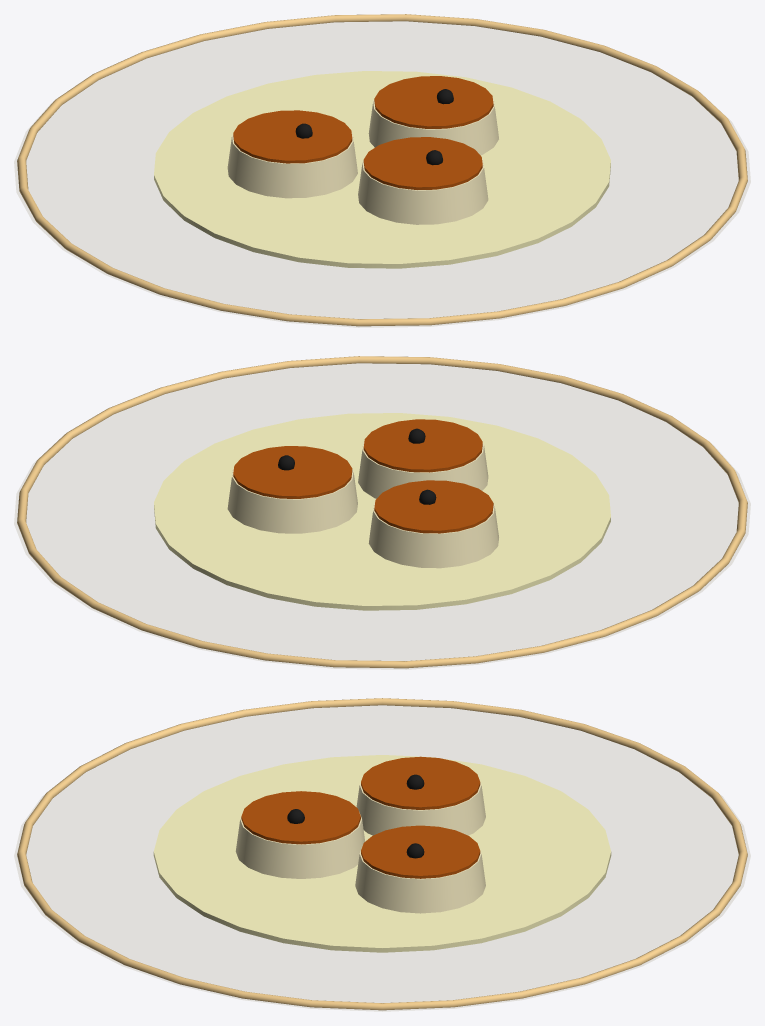
Rendered from pan-seared-scallops.glb.
3 renders of one model, top to bottom at view 1: azimuth 30°, elevation 25°; view 2: azimuth 150°, elevation 25°; view 3: azimuth 270°, elevation 25°, orthographic.
Bounding box in the file's own units: 2.9 × 0.36 × 2.9.
